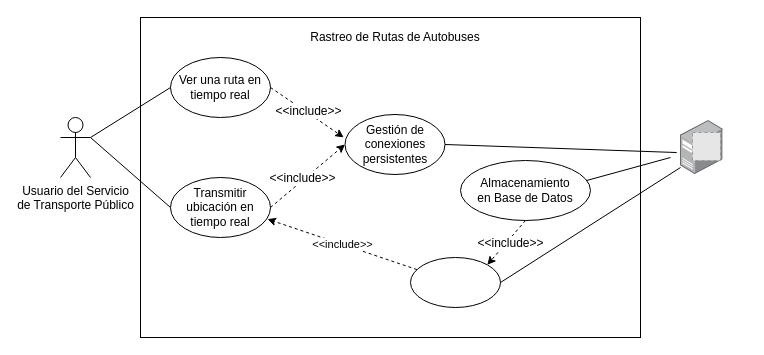
Image size: 764x355. Some labels were removed from this diagram. Grey dashed boxes stand in for pictures. The box of each missing label's shape, as (x1, y1, x2, y2) in pixels:
Análisis de Datos: (410, 256, 500, 308)
Servidor de manejo de datos: (680, 120, 723, 174)
